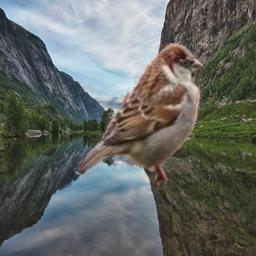Sparrow: (73, 43, 203, 187)
